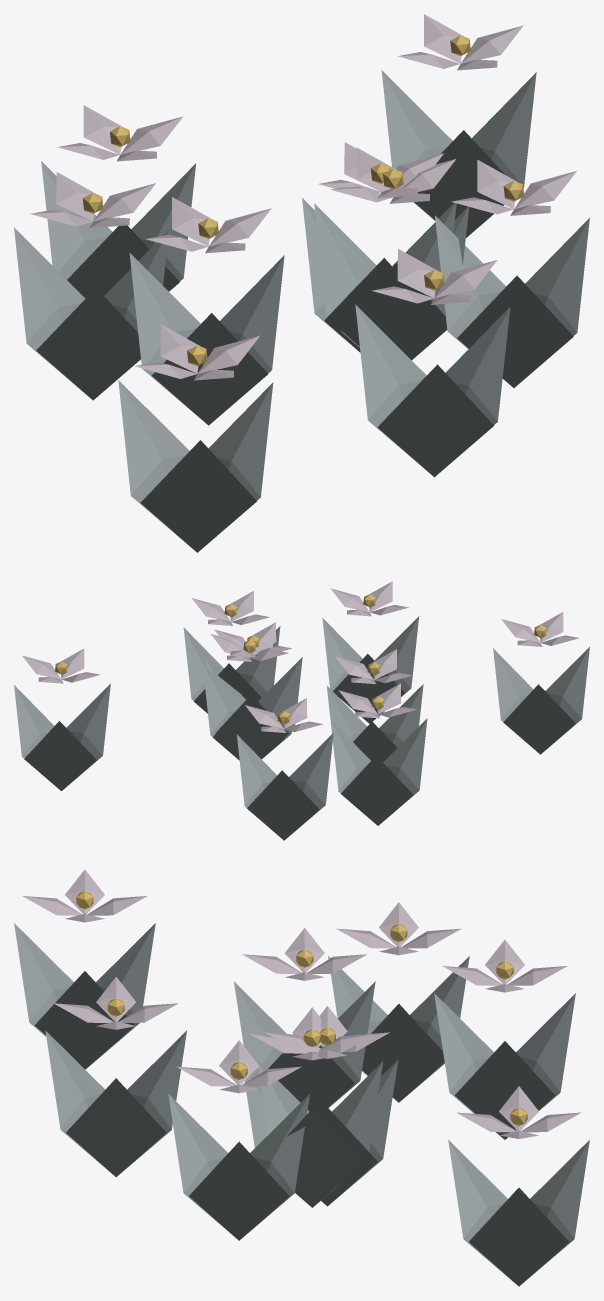
Rendered from map-exclusive-v3__highland_14.glb.
3 views of the same model, one above another, from view 1: azimuth 30°, elevation 25°; view 2: azimuth 150°, elevation 25°; view 3: azimuth 270°, elevation 25° (orthographic). The views are drawn at different scales.
Visible parts, largest first — view 1: highland_14; view 2: highland_14; view 3: highland_14.
Part boxes in pixels (x1,y1,x2,y2): highland_14: (14, 14, 589, 552); highland_14: (14, 581, 589, 840); highland_14: (14, 869, 589, 1286).
Bounding box in the file's own units: 2.07 × 0.627 × 1.83.
